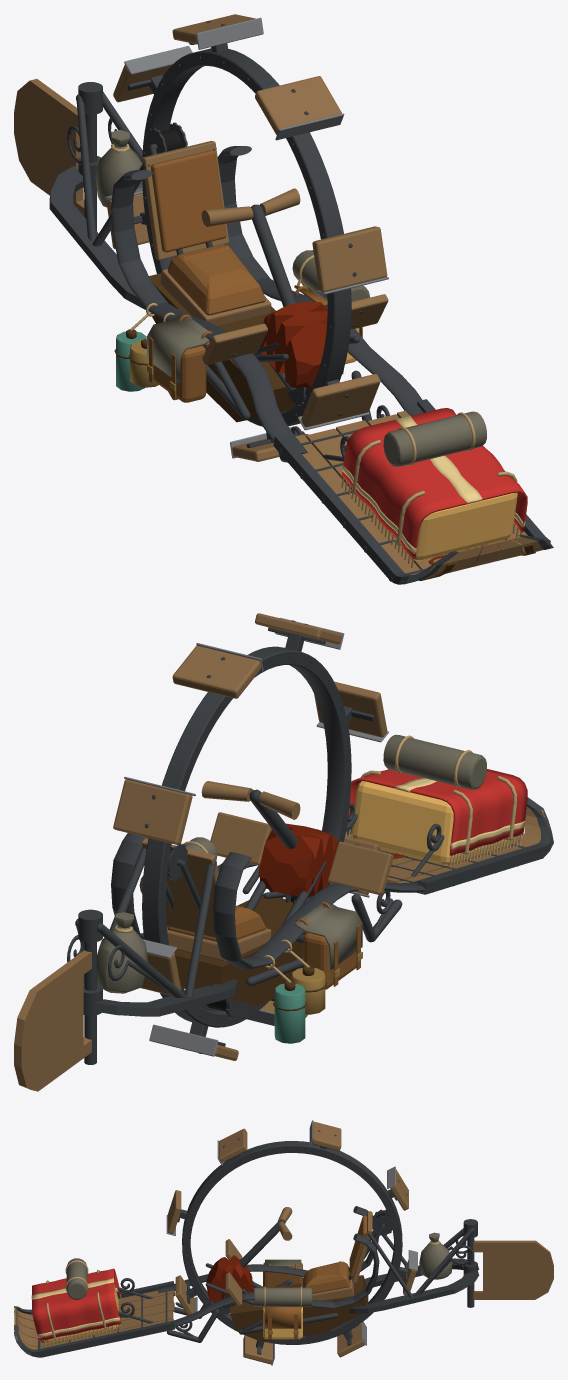
Rendered from desert_monowheel_hauler.fbx.
3 views of the same model, one above another, from view 1: azimuth 30°, elevation 25°; view 2: azimuth 150°, elevation 25°; view 3: azimuth 270°, elevation 25° (orthographic). The views are drawn at different scales.
Parts seen in each view (by area): view 1: Mesh_Ring_Hauler, Mesh_CargoRug_Hauler, Mesh_SideHoopR_Hauler, Mesh_BackCushion_Hauler, Mesh_TailPanel_Hauler, Mesh_SkiDeck_Hauler, Mesh_CargoBundle_Hauler, Mesh_SeatCushion_Hauler, Mesh_SideHoopL_Hauler, Mesh_FrontCowl_Hauler, Mesh_SkiRails_Hauler, Mesh_Paddle02_Hauler (+30 smaller); view 2: Mesh_Ring_Hauler, Mesh_TailPanel_Hauler, Mesh_CargoBundle_Hauler, Mesh_CargoRug_Hauler, Mesh_SideHoopR_Hauler, Mesh_BellyPan_Hauler, Mesh_FrontCowl_Hauler, Mesh_Paddle07_Hauler, Mesh_CargoBedroll_Hauler, Mesh_CheekL_Hauler, Mesh_Paddle00_Hauler, Mesh_SkiRails_Hauler (+29 smaller); view 3: Mesh_Ring_Hauler, Mesh_TailPanel_Hauler, Mesh_CargoRug_Hauler, Mesh_SkiDeck_Hauler, Mesh_BellyPan_Hauler, Mesh_SkiRails_Hauler, Mesh_SideHoopL_Hauler, Mesh_CheekR_Hauler, Mesh_RearRailL_Hauler, Mesh_FrontCowl_Hauler, Mesh_SeatCushion_Hauler, Mesh_SideBedrollL_Hauler (+27 smaller).
Boxes of the visible parts, x1,y1,x2,y2 form: Mesh_Ring_Hauler: [142, 48, 351, 426]; Mesh_CargoRug_Hauler: [342, 408, 527, 558]; Mesh_SideHoopR_Hauler: [111, 170, 307, 457]; Mesh_BackCushion_Hauler: [150, 150, 226, 252]; Mesh_TailPanel_Hauler: [14, 79, 84, 216]; Mesh_SkiDeck_Hauler: [295, 410, 543, 581]; Mesh_CargoBundle_Hauler: [352, 488, 517, 560]; Mesh_SeatCushion_Hauler: [167, 244, 265, 315]; Mesh_SideHoopL_Hauler: [217, 146, 423, 415]; Mesh_FrontCowl_Hauler: [259, 302, 343, 387]; Mesh_SkiRails_Hauler: [273, 399, 553, 584]; Mesh_Paddle02_Hauler: [312, 226, 387, 292]; Mesh_Ring_Hauler: [142, 646, 351, 1027]; Mesh_TailPanel_Hauler: [14, 950, 91, 1091]; Mesh_CargoBundle_Hauler: [351, 781, 509, 865]; Mesh_CargoRug_Hauler: [347, 769, 527, 855]; Mesh_SideHoopR_Hauler: [213, 852, 438, 969]; Mesh_BellyPan_Hauler: [174, 894, 306, 1006]; Mesh_FrontCowl_Hauler: [258, 823, 338, 897]; Mesh_Paddle07_Hauler: [113, 779, 192, 845]; Mesh_CargoBedroll_Hauler: [383, 734, 486, 789]; Mesh_CheekL_Hauler: [97, 823, 444, 997]; Mesh_Paddle00_Hauler: [172, 645, 261, 698]; Mesh_SkiRails_Hauler: [347, 797, 553, 894]; Mesh_Ring_Hauler: [182, 1141, 402, 1344]; Mesh_TailPanel_Hauler: [473, 1240, 553, 1299]; Mesh_CargoRug_Hauler: [32, 1268, 121, 1341]; Mesh_SkiDeck_Hauler: [14, 1290, 174, 1353]; Mesh_BellyPan_Hauler: [230, 1275, 368, 1341]; Mesh_SkiRails_Hauler: [14, 1281, 175, 1357]; Mesh_SideHoopL_Hauler: [160, 1233, 379, 1330]; Mesh_CheekR_Hauler: [118, 1228, 474, 1342]; Mesh_RearRailL_Hauler: [349, 1271, 479, 1313]; Mesh_FrontCowl_Hauler: [206, 1255, 253, 1302]; Mesh_SeatCushion_Hauler: [302, 1261, 350, 1293]; Mesh_SideBedrollL_Hauler: [254, 1287, 312, 1306].
Bounding box in the file's own units: 194 × 388 × 833.
